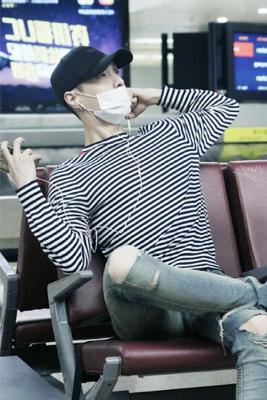mask_weared_incorrect: (80, 67, 131, 121)
